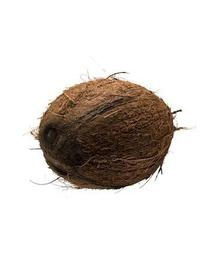coconut: (32, 76, 176, 194)
